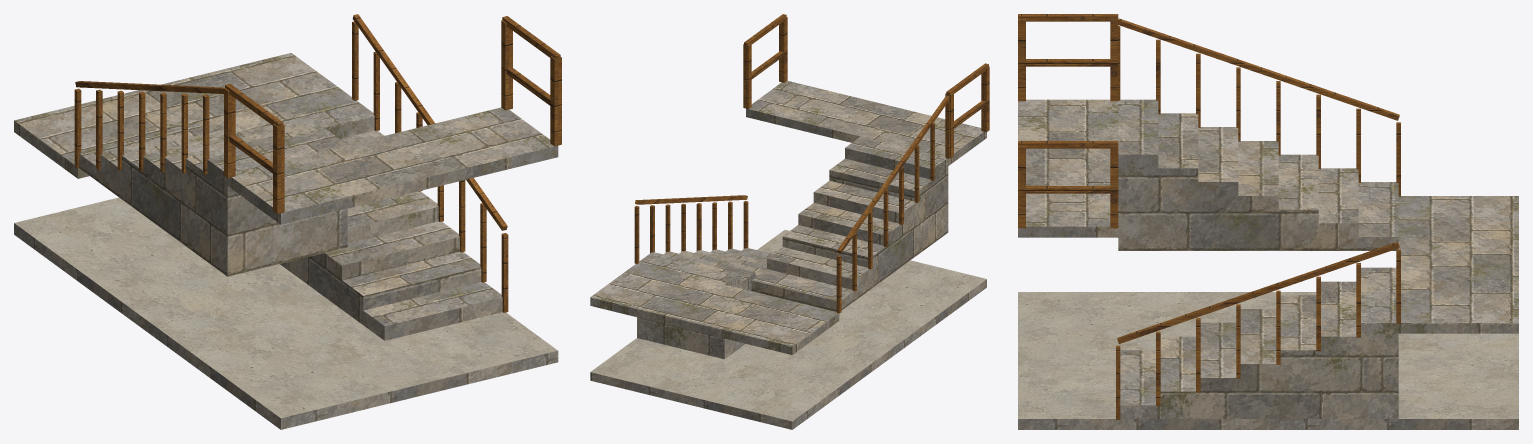
Rendered from castle-datum-stair.gltf.
3 views of the same model, side by side, from view 1: azimuth 30°, elevation 25°; view 2: azimuth 150°, elevation 25°; view 3: azimuth 270°, elevation 25° (orthographic). The views are drawn at different scales.
Parts seen in each view (by area): view 1: stairs-L0-stone, floor-L0-plaster, walkway-L1-stone, stairs-L0-wood, floor-L0-stone, guards-L1-wood; view 2: stairs-L0-stone, floor-L0-plaster, walkway-L1-stone, stairs-L0-wood, floor-L0-stone, guards-L1-wood; view 3: stairs-L0-stone, floor-L0-plaster, walkway-L1-stone, stairs-L0-wood, guards-L1-wood, floor-L0-stone.
Boxes of the visible parts, <box> form: stairs-L0-stone: <box>14,53,502,340</box>; floor-L0-plaster: <box>14,197,557,418</box>; walkway-L1-stone: <box>227,107,558,224</box>; stairs-L0-wood: <box>74,14,508,312</box>; floor-L0-stone: <box>14,223,558,429</box>; guards-L1-wood: <box>224,16,561,213</box>; stairs-L0-stone: <box>590,136,948,359</box>; floor-L0-plaster: <box>590,230,986,421</box>; walkway-L1-stone: <box>746,80,986,165</box>; stairs-L0-wood: <box>634,95,949,313</box>; floor-L0-stone: <box>590,279,986,429</box>; guards-L1-wood: <box>743,14,989,158</box>; stairs-L0-stone: <box>1118,99,1518,418</box>; floor-L0-plaster: <box>1018,292,1518,418</box>; walkway-L1-stone: <box>1018,99,1118,237</box>; stairs-L0-wood: <box>1116,18,1400,419</box>; guards-L1-wood: <box>1018,14,1118,228</box>; floor-L0-stone: <box>1018,419,1518,429</box>.
Size of the model in its own units: 3.08 by 3.17 by 5.
Materials: 3 (3 with a texture image).
